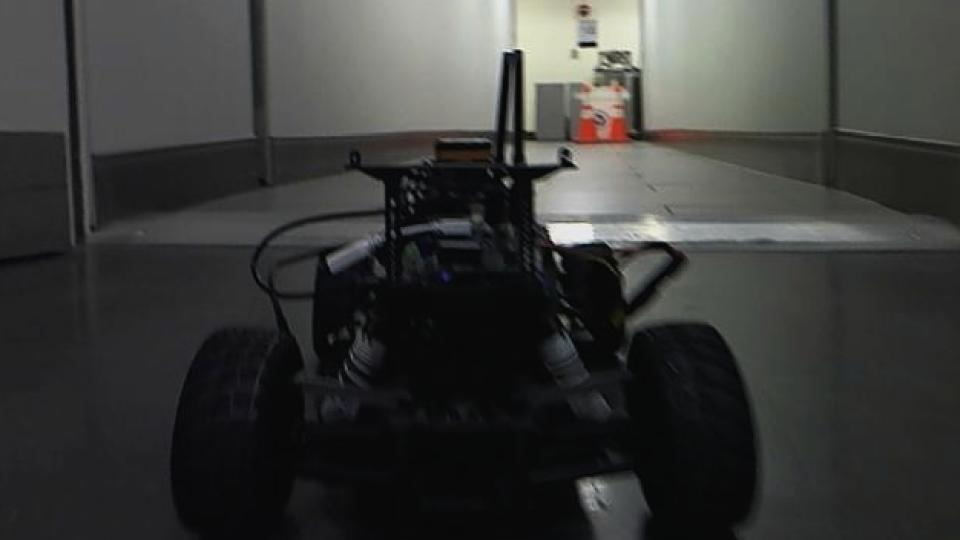car: (161, 41, 764, 540)
